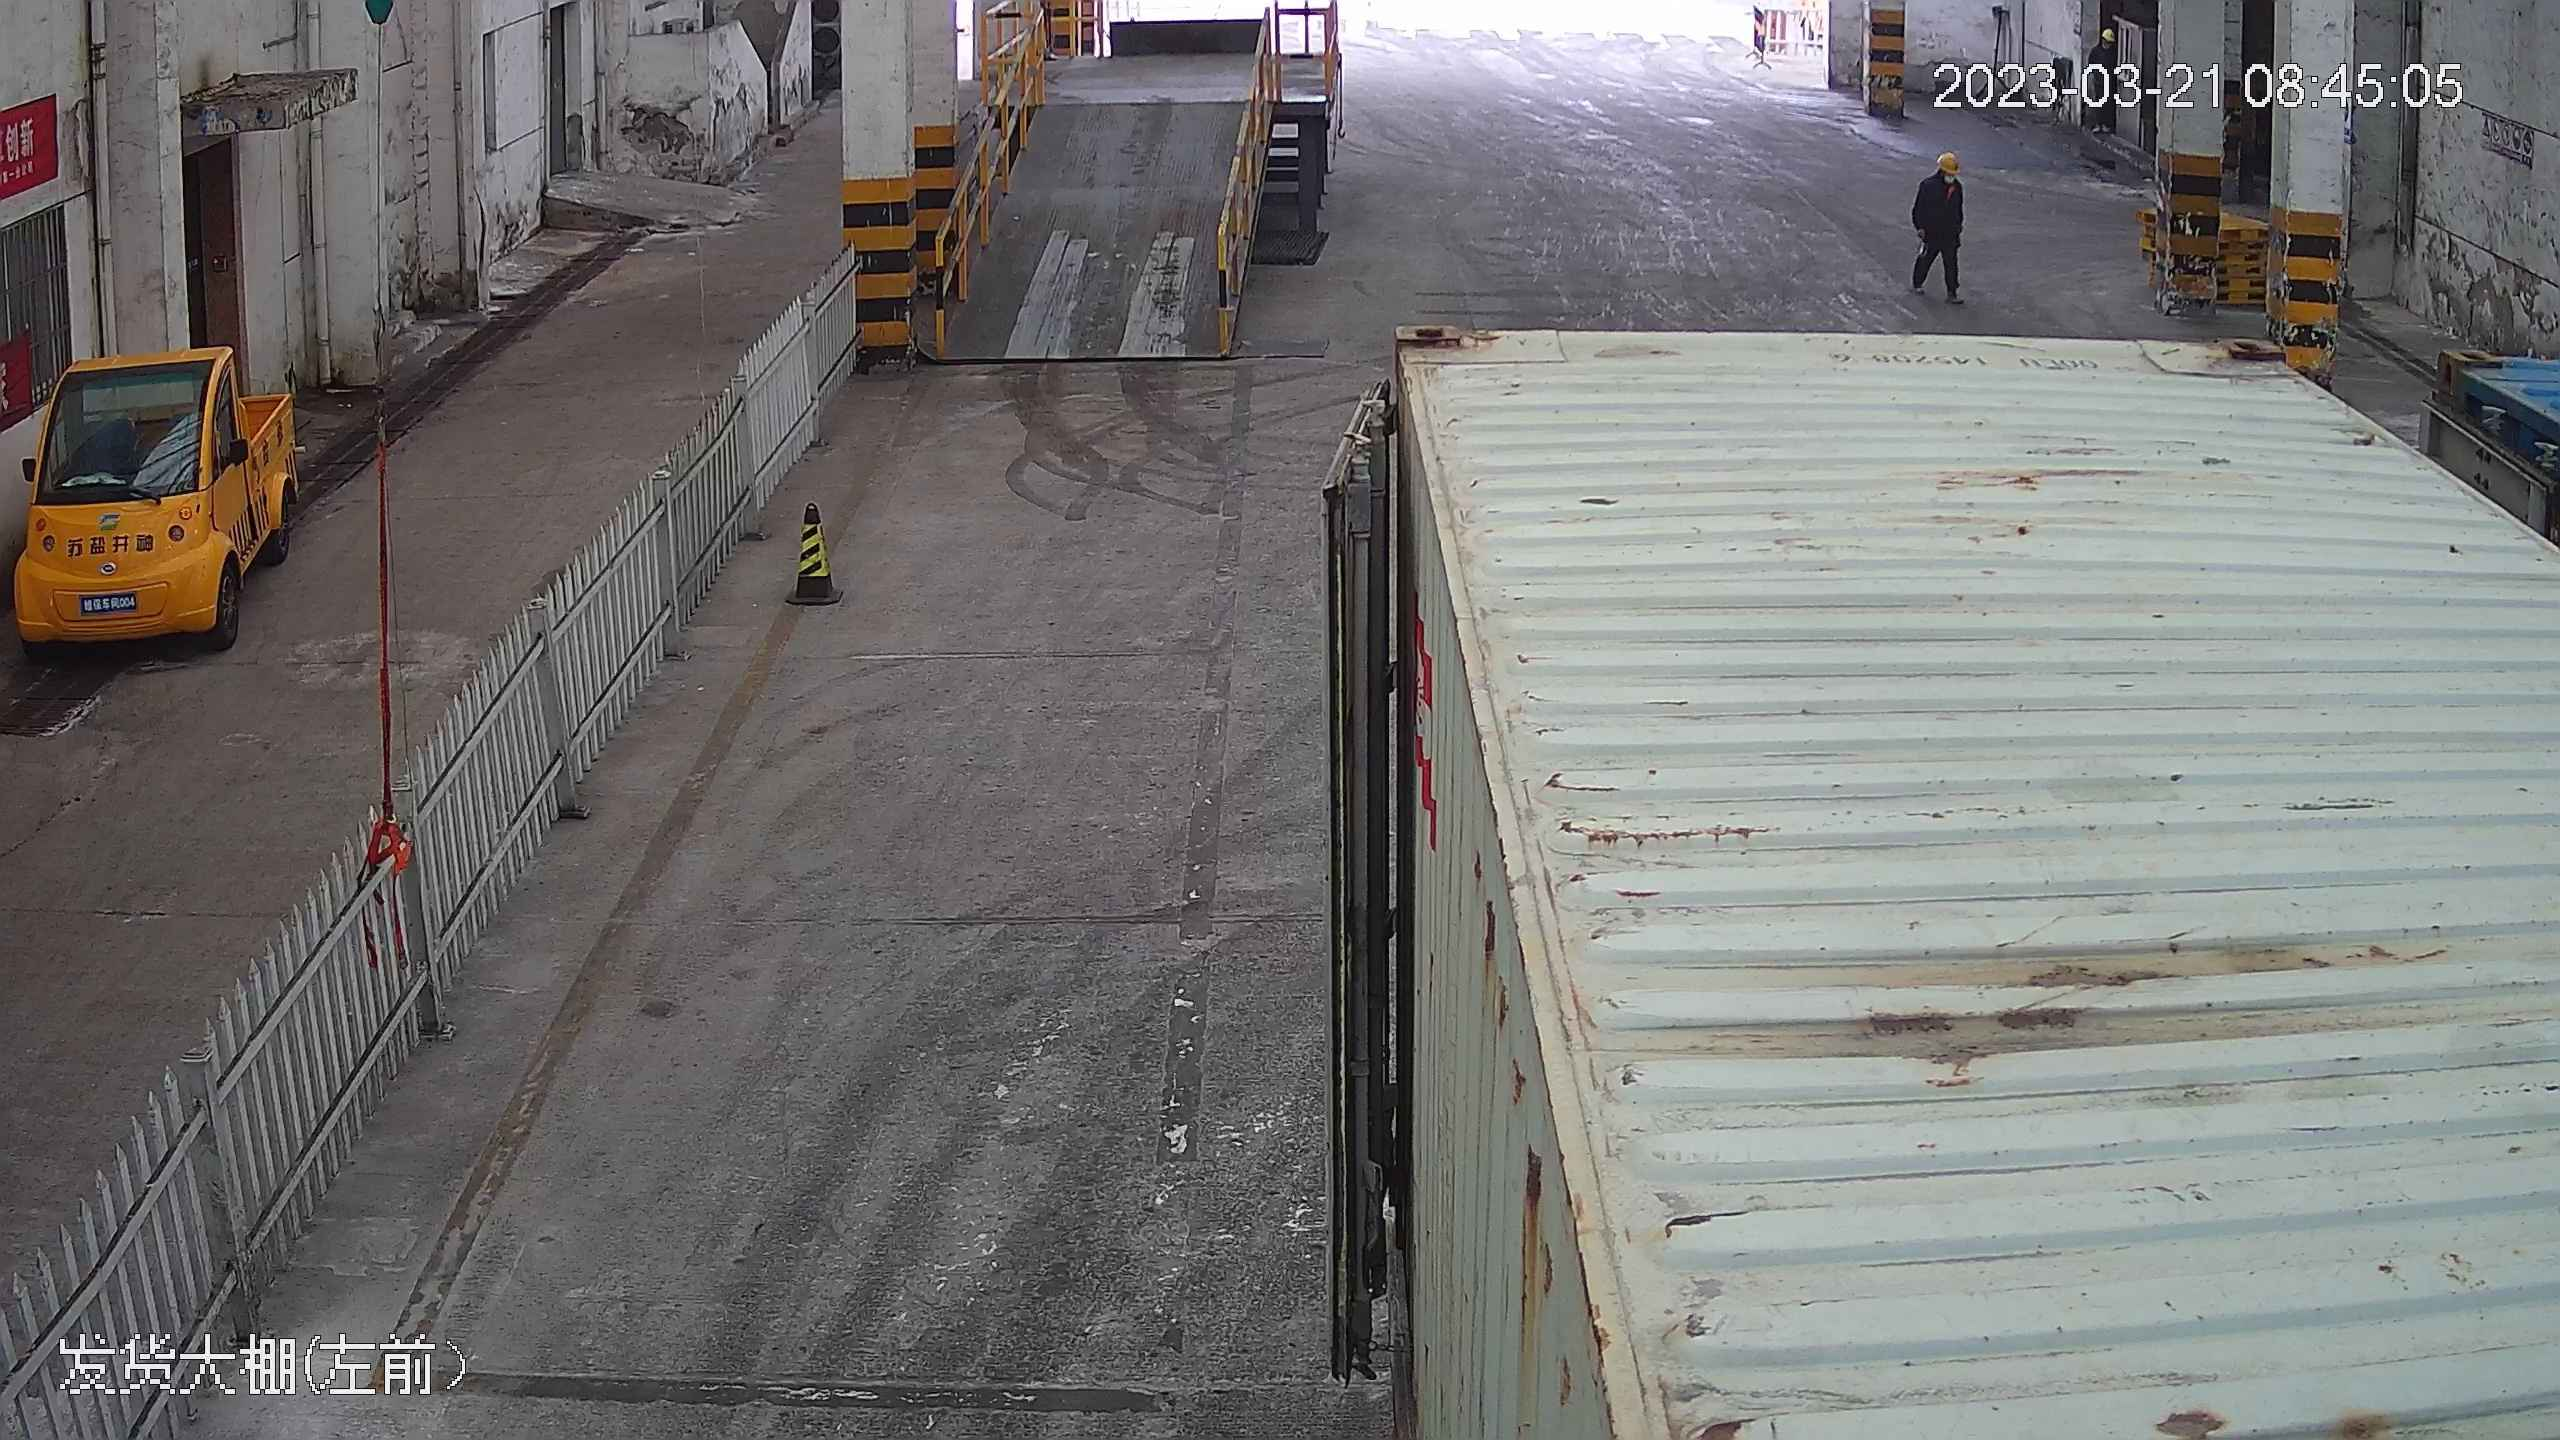head: (1915, 147, 1966, 201)
helmet: (1935, 148, 1961, 169)
people: (1903, 146, 1970, 306)
truck: (1274, 286, 2549, 1440)
